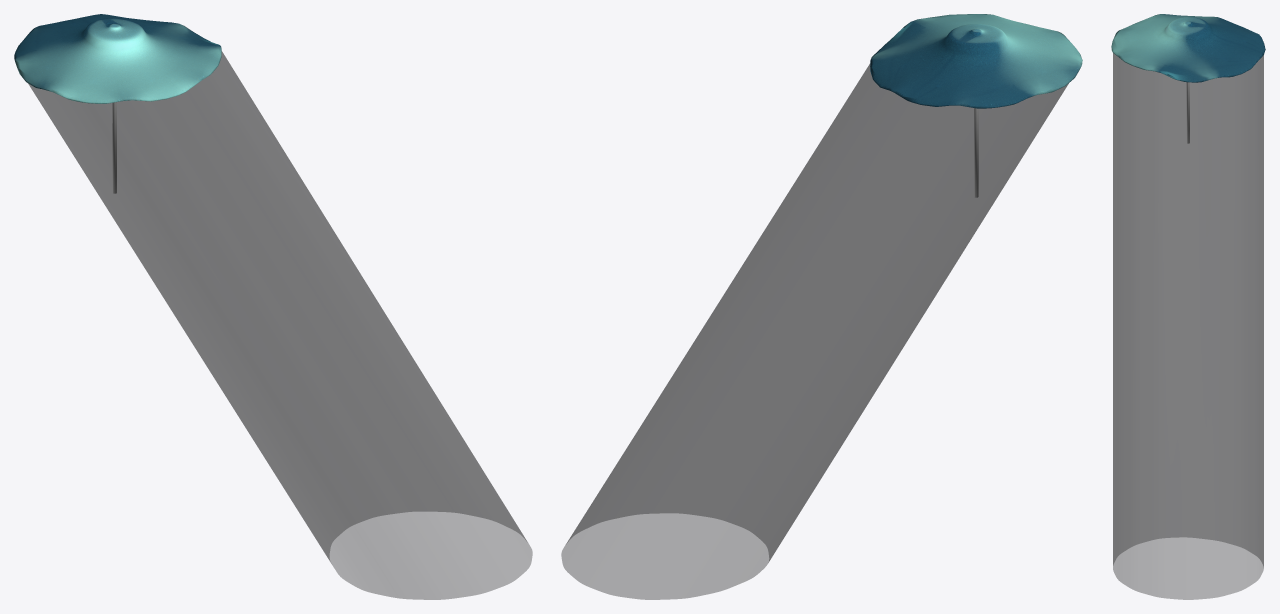
Rendered from parasol3.fbx.
3 views of the same model, side by side, from view 1: azimuth 30°, elevation 25°; view 2: azimuth 150°, elevation 25°; view 3: azimuth 270°, elevation 25° (orthographic). The views are drawn at different scales.
Visible parts, largest first — view 1: Circle.002, Circle; view 2: Circle.002, Circle; view 3: Circle.002, Circle, Circle.001.
Part boxes in pixels (x1,y1,x2,y2): Circle.002: (28,51,532,599); Circle: (14,14,221,103); Circle.002: (561,64,1068,599); Circle: (870,14,1082,108); Circle.002: (1113,53,1263,599); Circle: (1111,14,1265,82); Circle.001: (1186,82,1189,143).
Bounding box in the file's own units: 929 × 1091 × 350.
3 materials, 1 textured.
